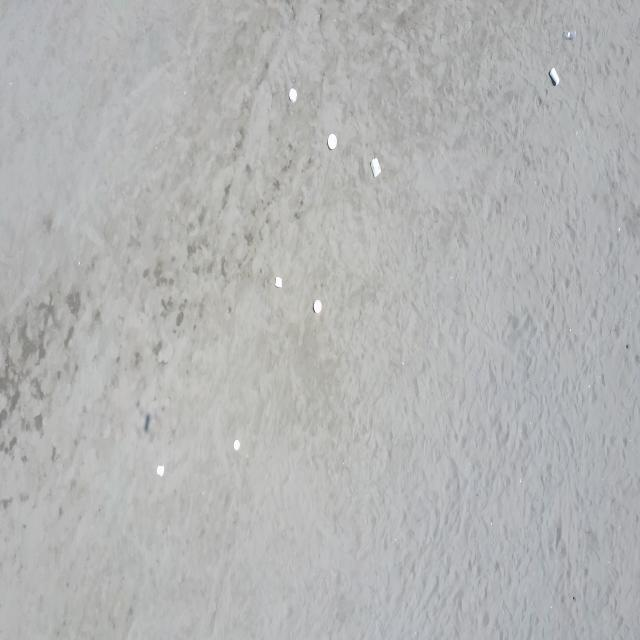take-away-containers: (369, 157, 382, 178), (328, 134, 337, 150), (313, 299, 322, 314), (288, 88, 297, 102), (274, 276, 282, 289), (233, 439, 241, 451), (157, 464, 164, 477)
takeaway-cup: (550, 66, 560, 86), (565, 29, 576, 40)
